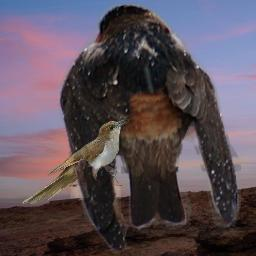Cuckoo: (22, 119, 129, 205)
Swallow: (59, 4, 241, 254)
